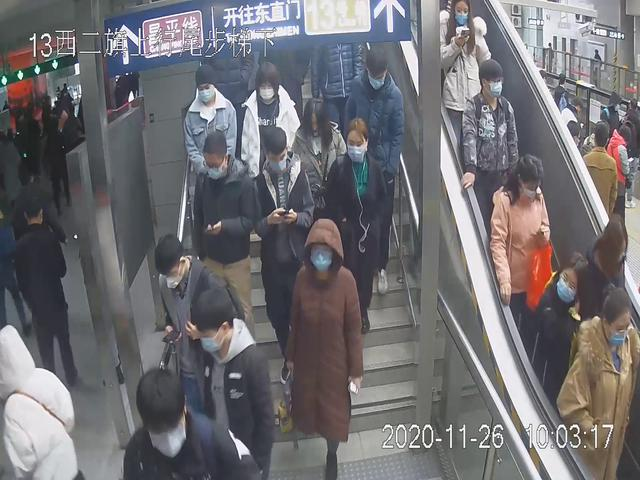person: (280, 216, 366, 480), (150, 231, 247, 441), (556, 283, 640, 480), (192, 286, 277, 480), (341, 46, 407, 293), (256, 126, 315, 394), (321, 116, 393, 334), (486, 149, 554, 373), (193, 128, 257, 357), (458, 58, 520, 272), (233, 56, 305, 205), (433, 1, 492, 174), (181, 61, 236, 224)
